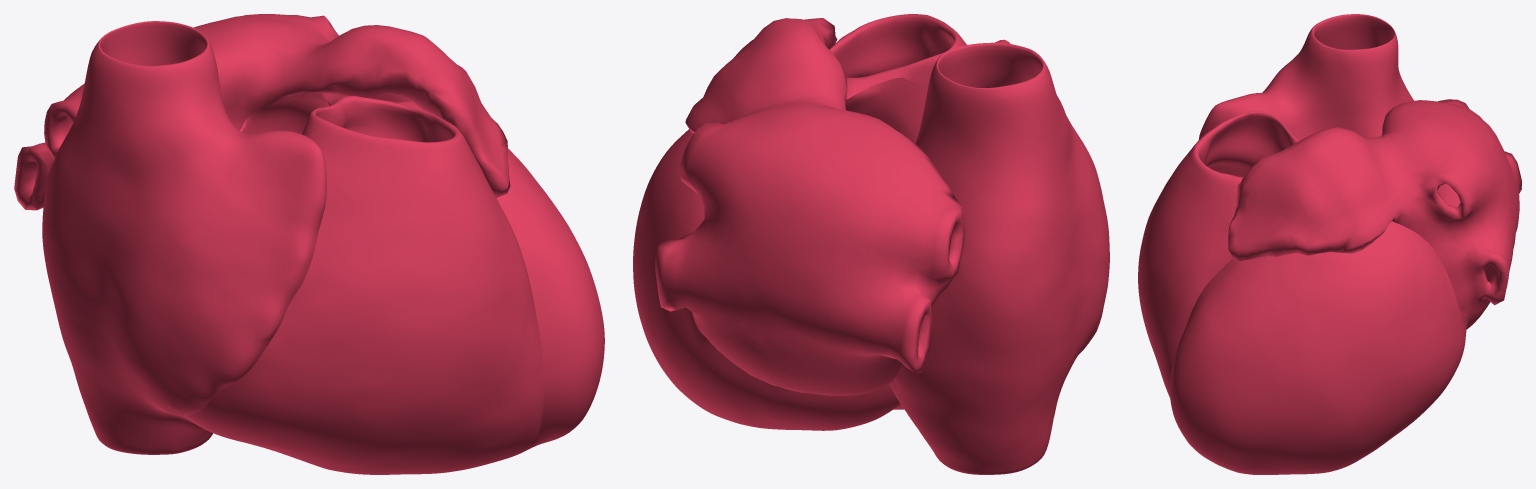
The model's file is z-anatomy-1.2.0-cardiovascular.glb.
3 views of the same model, side by side, from view 1: azimuth 30°, elevation 25°; view 2: azimuth 150°, elevation 25°; view 3: azimuth 270°, elevation 25° (orthographic). The views are drawn at different scales.
Parts seen in each view (by area): view 1: heart-right-ventricle__Right ventricle, heart-right-atrium__Right atrium, heart-left-atrium__Left atrium, heart-left-ventricle__Left ventricle; view 2: heart-left-atrium__Left atrium, heart-right-atrium__Right atrium, heart-left-ventricle__Left ventricle, heart-right-ventricle__Right ventricle; view 3: heart-left-ventricle__Left ventricle, heart-left-atrium__Left atrium, heart-right-ventricle__Right ventricle, heart-right-atrium__Right atrium.
Part boxes in pixels (box(x1,y1,x2,y2)): heart-right-ventricle__Right ventricle: box(184, 93, 544, 474); heart-right-atrium__Right atrium: box(42, 21, 326, 454); heart-left-atrium__Left atrium: box(14, 14, 510, 210); heart-left-ventricle__Left ventricle: box(239, 94, 604, 446); heart-left-atrium__Left atrium: box(655, 18, 964, 395); heart-right-atrium__Right atrium: box(889, 39, 1109, 474); heart-left-ventricle__Left ventricle: box(633, 77, 927, 430); heart-right-ventricle__Right ventricle: box(829, 14, 966, 409); heart-left-ventricle__Left ventricle: box(1170, 221, 1467, 474); heart-left-atrium__Left atrium: box(1228, 99, 1521, 329); heart-right-ventricle__Right ventricle: box(1138, 111, 1299, 397); heart-right-atrium__Right atrium: box(1198, 14, 1413, 221).
Size of the model in its own units: 0.1191 by 0.108 by 0.1129.
